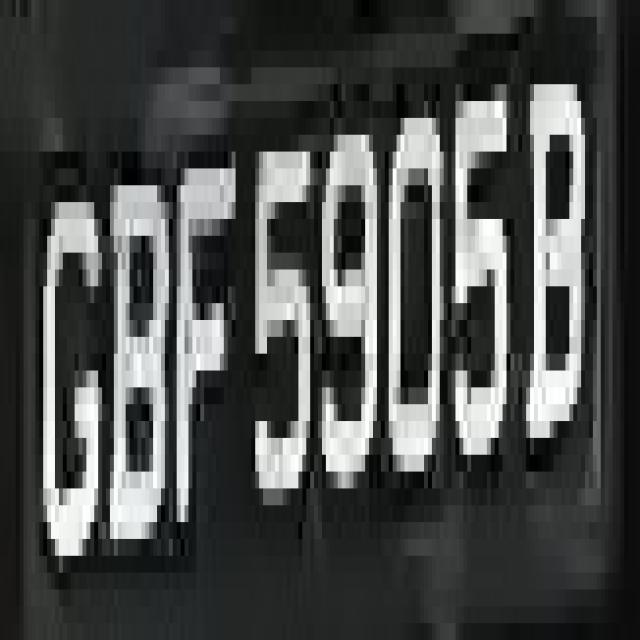0: (385, 84, 451, 522)
5: (240, 67, 314, 556), (444, 34, 514, 522)
9: (314, 51, 385, 488)
B: (522, 17, 597, 505), (106, 152, 177, 556)
F: (169, 118, 247, 623)
G: (31, 152, 110, 556)
